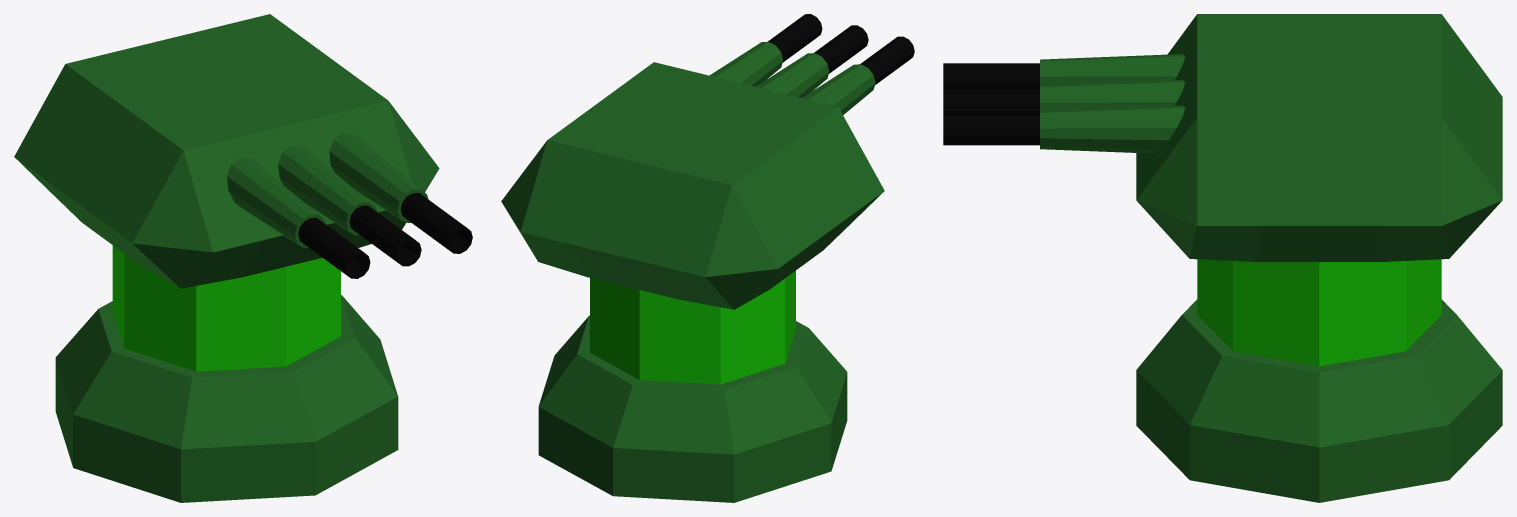
File: Turret2_3.glb
3 renders of one model, left to right at view 1: azimuth 30°, elevation 25°; view 2: azimuth 150°, elevation 25°; view 3: azimuth 270°, elevation 25°, orthographic. The views are drawn at different scales.
Visible parts, largest first — view 1: TurretUpgradePath2_3; view 2: TurretUpgradePath2_3; view 3: TurretUpgradePath2_3.
Part boxes in pixels (<box>): TurretUpgradePath2_3: <box>14,14,472,502</box>; TurretUpgradePath2_3: <box>501,14,914,502</box>; TurretUpgradePath2_3: <box>943,14,1502,502</box>.
Size of the model in its own units: 3 by 3.25 by 4.58.
